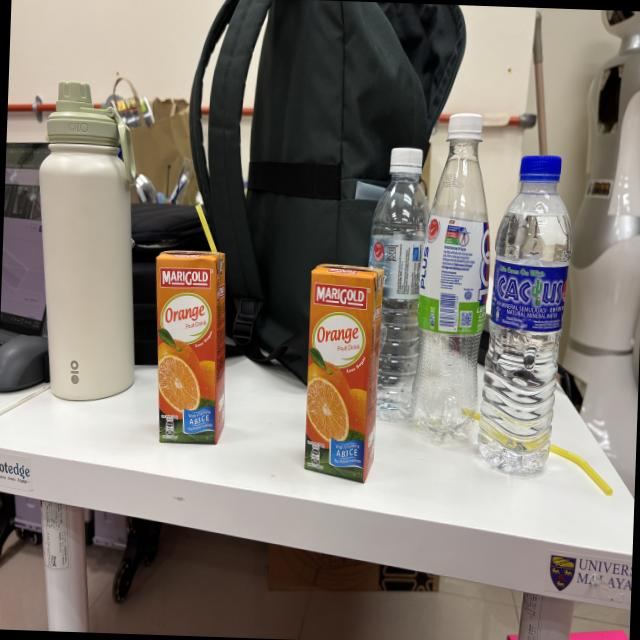drink_carton: (296, 254, 388, 491), (149, 199, 233, 452)
plastic_bottle: (470, 140, 580, 494), (406, 97, 498, 452), (360, 139, 436, 427)
